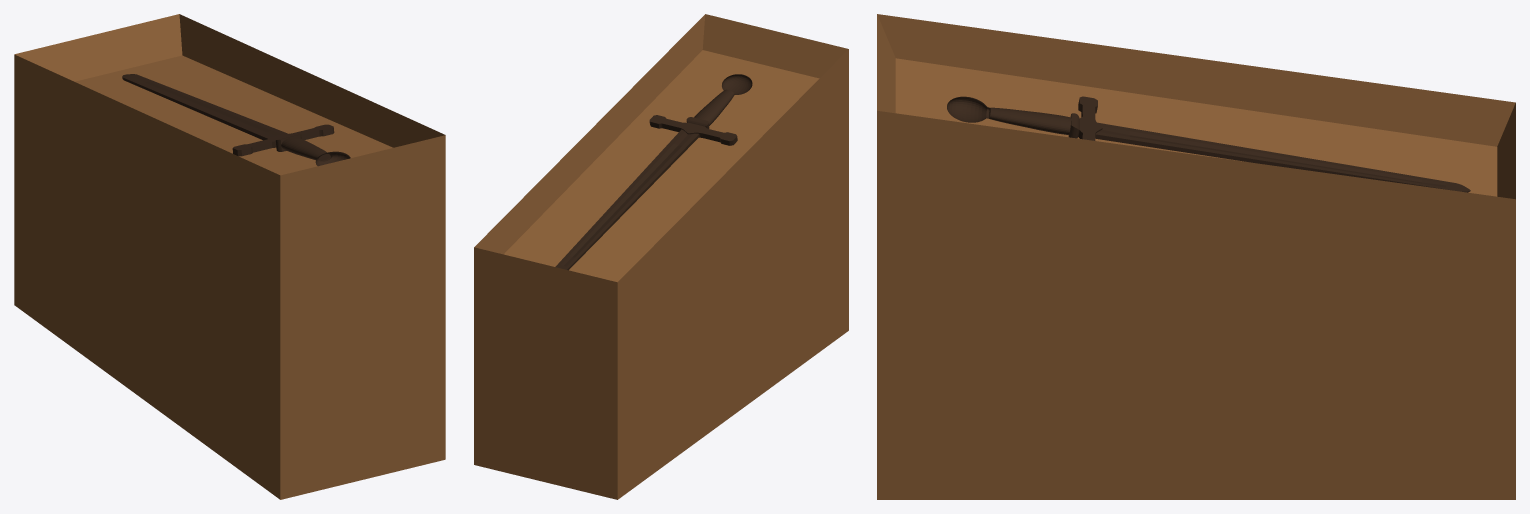
File: cavaloservo.fbx
3 renders of one model, left to right at view 1: azimuth 30°, elevation 25°; view 2: azimuth 150°, elevation 25°; view 3: azimuth 270°, elevation 25°, orthographic. The views are drawn at different scales.
Parts seen in each view (by area): view 1: Cube.001, Cube; view 2: Cube.001, Cube; view 3: Cube.001, Cube.
Boxes of the visible parts, box(x1,y1,x2,y2) form: Cube.001: box(14, 14, 445, 499); Cube: box(122, 74, 350, 166); Cube.001: box(474, 14, 848, 499); Cube: box(555, 74, 752, 270); Cube.001: box(877, 14, 1515, 499); Cube: box(947, 96, 1470, 192).
Size of the model in its own units: 144 by 269 by 400.
